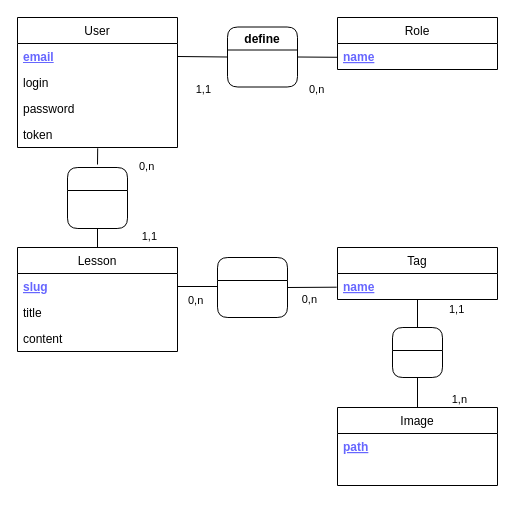
Image size: 515x506. Some labels were removed from this diagram. The shapes that lost their labels are listed below. From the top down, each one's centre as x and y in pixels, then its label:
the point at 97,197: write
the point at 252,287: belong
the point at 417,352: get
